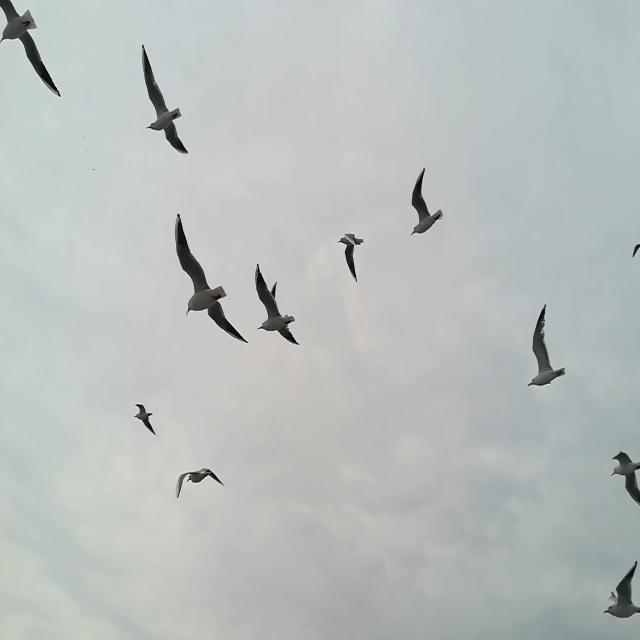bird: (175, 212, 249, 344), (1, 2, 63, 98), (140, 46, 188, 156), (254, 262, 300, 346), (528, 303, 566, 387), (410, 166, 446, 234), (602, 561, 640, 621), (611, 452, 640, 522), (175, 469, 224, 498), (338, 233, 364, 282), (132, 404, 156, 436), (270, 278, 280, 307), (630, 242, 639, 260)
